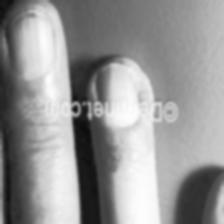Potentially Malignant Skin Tumors: (94, 62, 155, 126)
